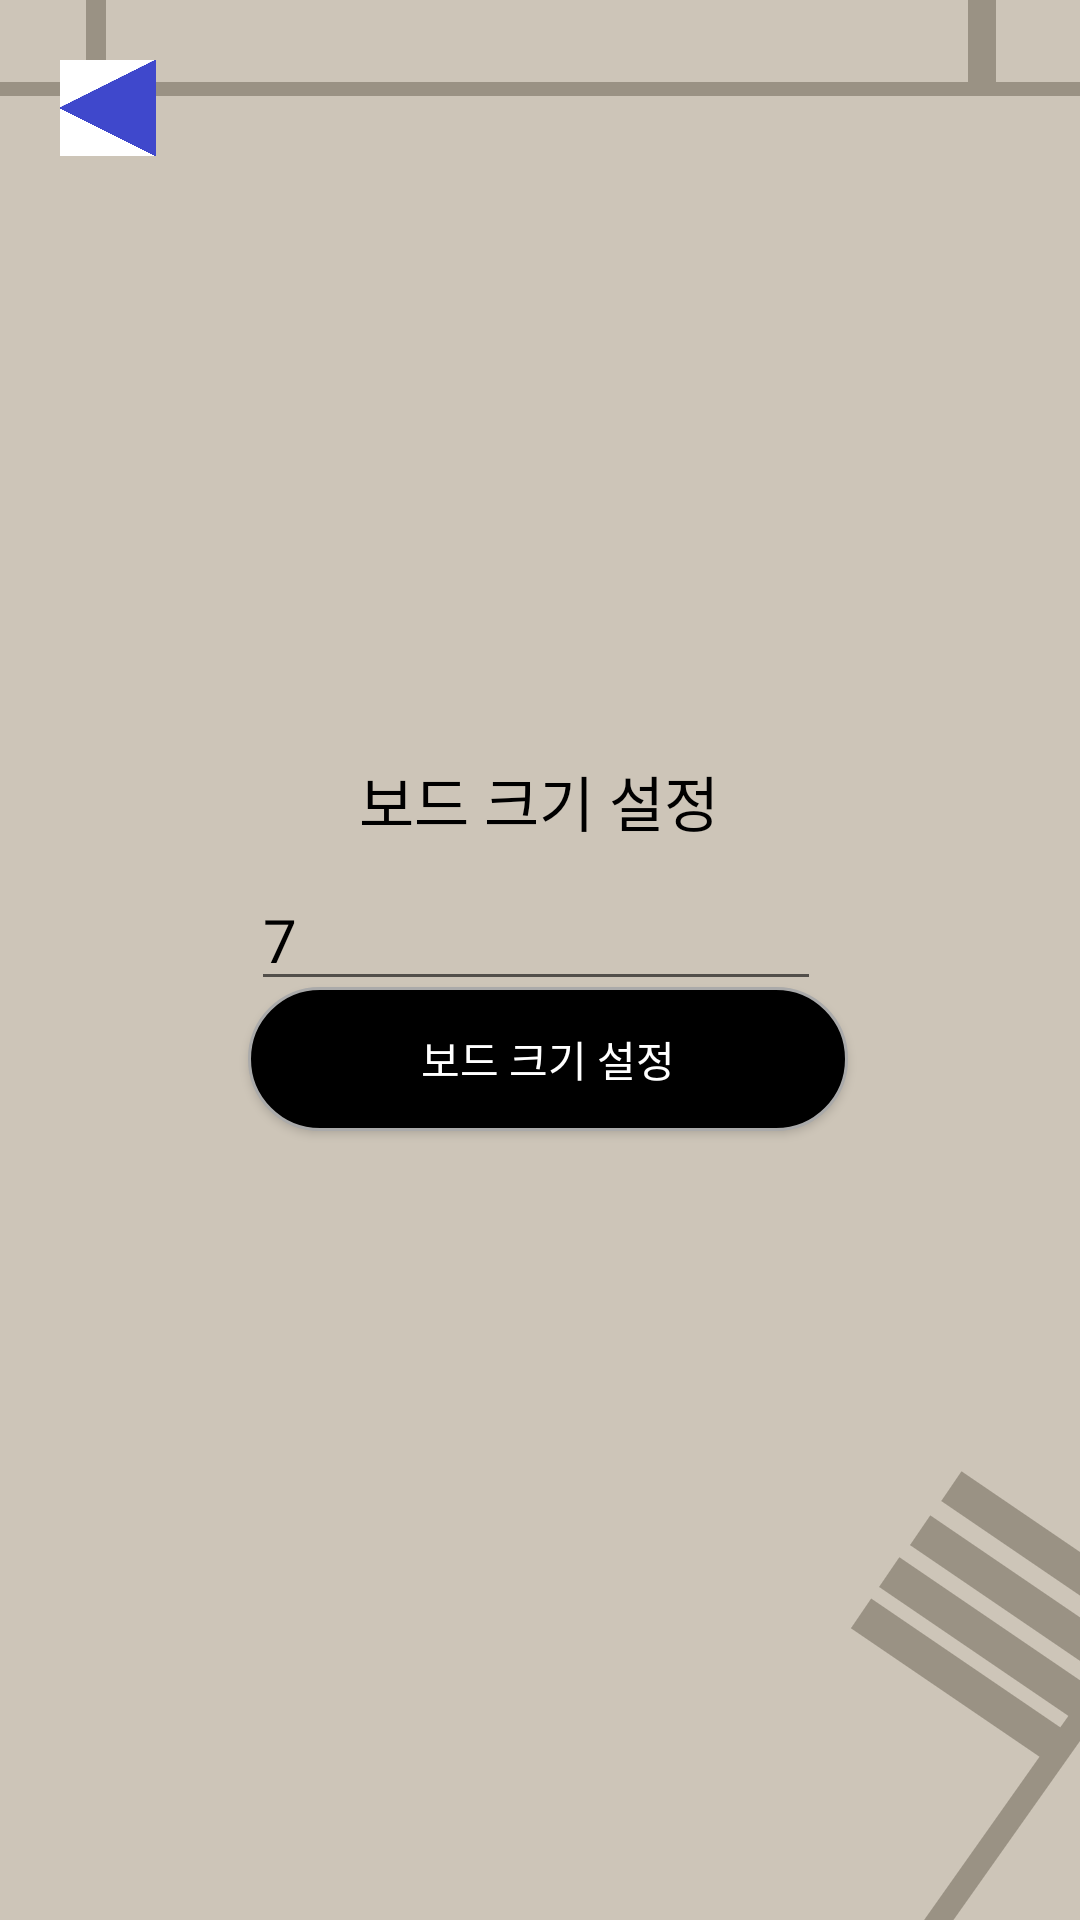

Icons on this 1080px x 1920px Android screen, each with the point to tap as [x,y]:
general back arrow: [108,108]
